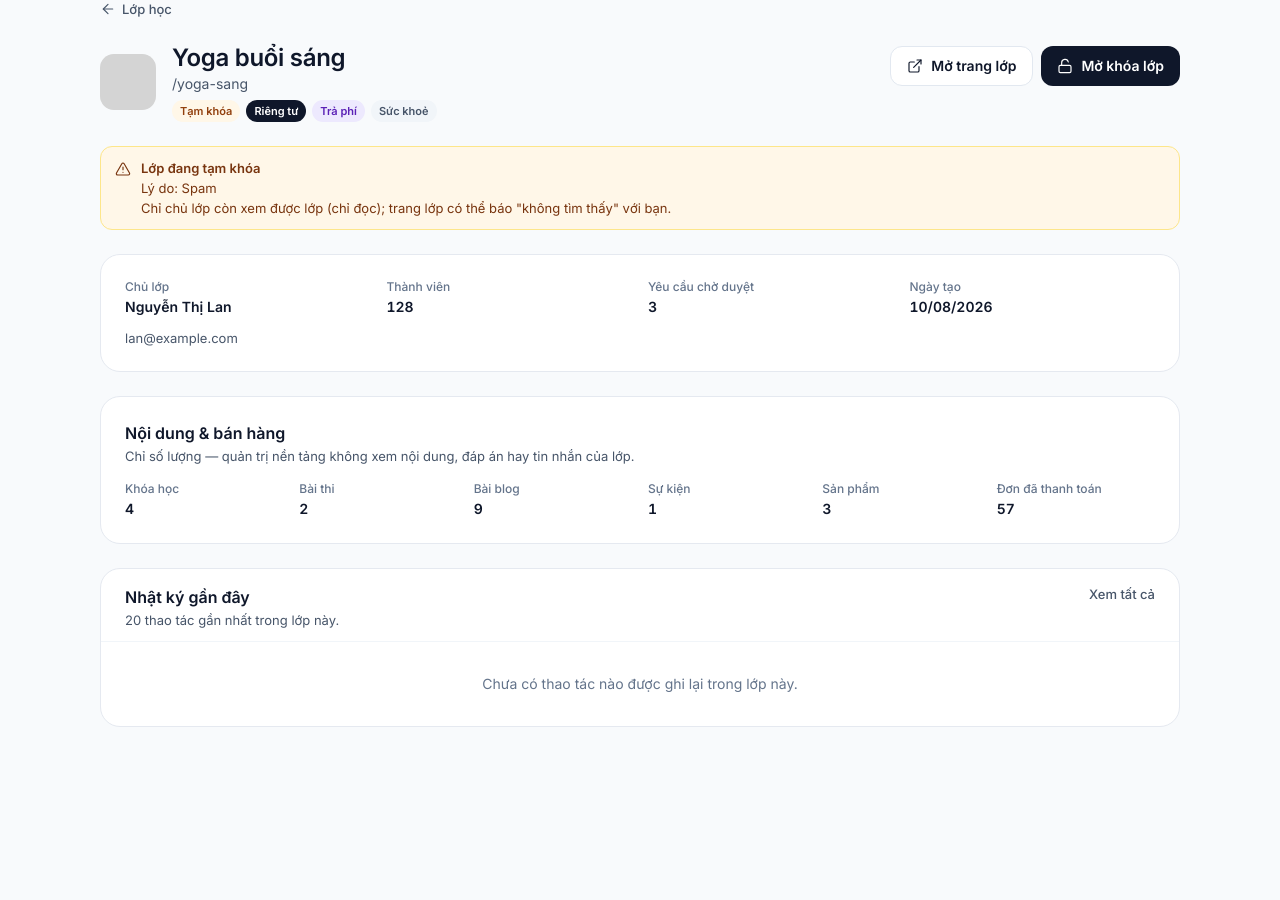
Test: AdminClassDetail suspend / restore › restores a suspended class with a reason and shows a server error inline
Click the button "Mở khóa lớp" at point(1111, 66), box [1041,46,1180,86]
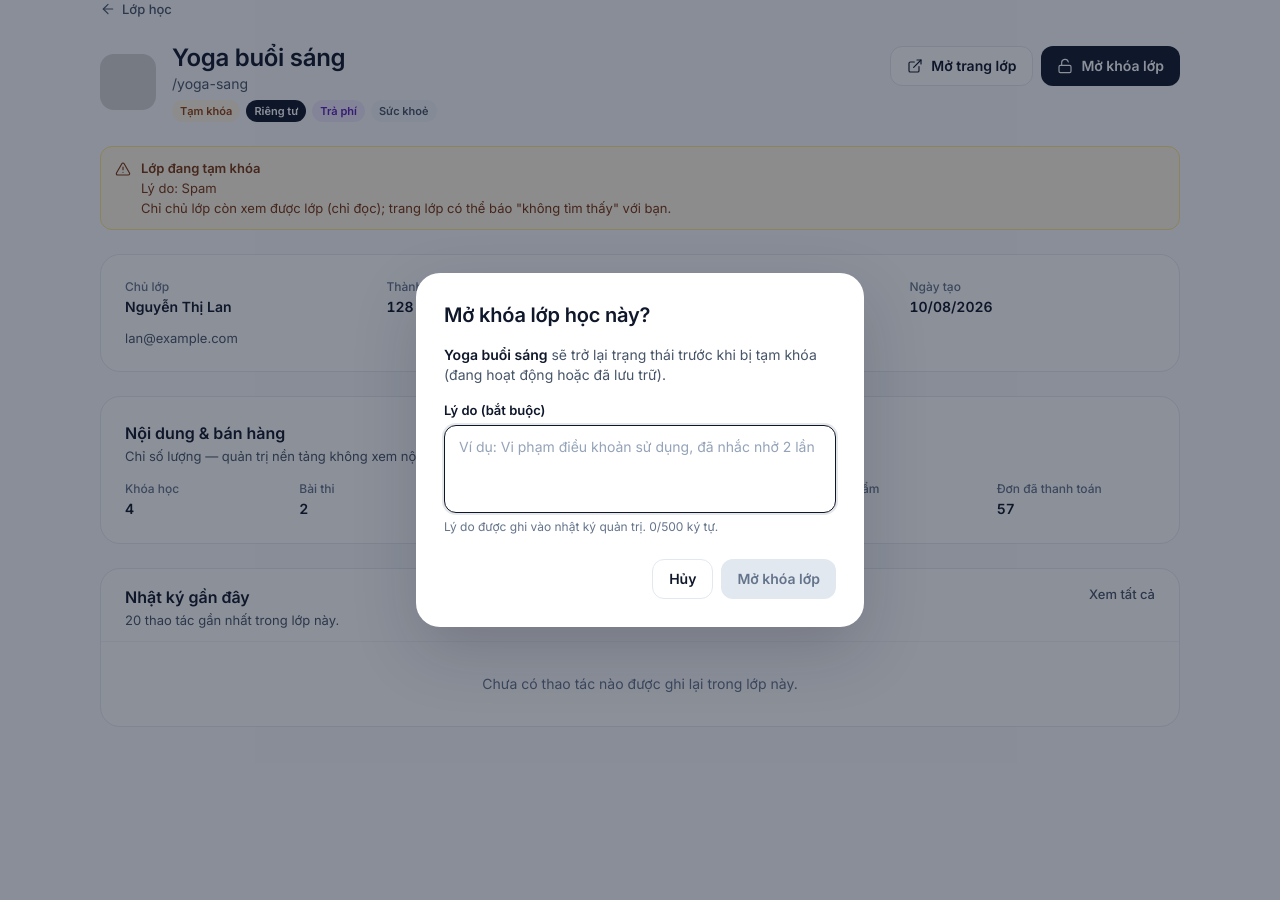
Type "Đã gỡ nội dung" into the text box labelled "Lý do (bắt buộc)" at point(640, 469), box [444,425,836,513]
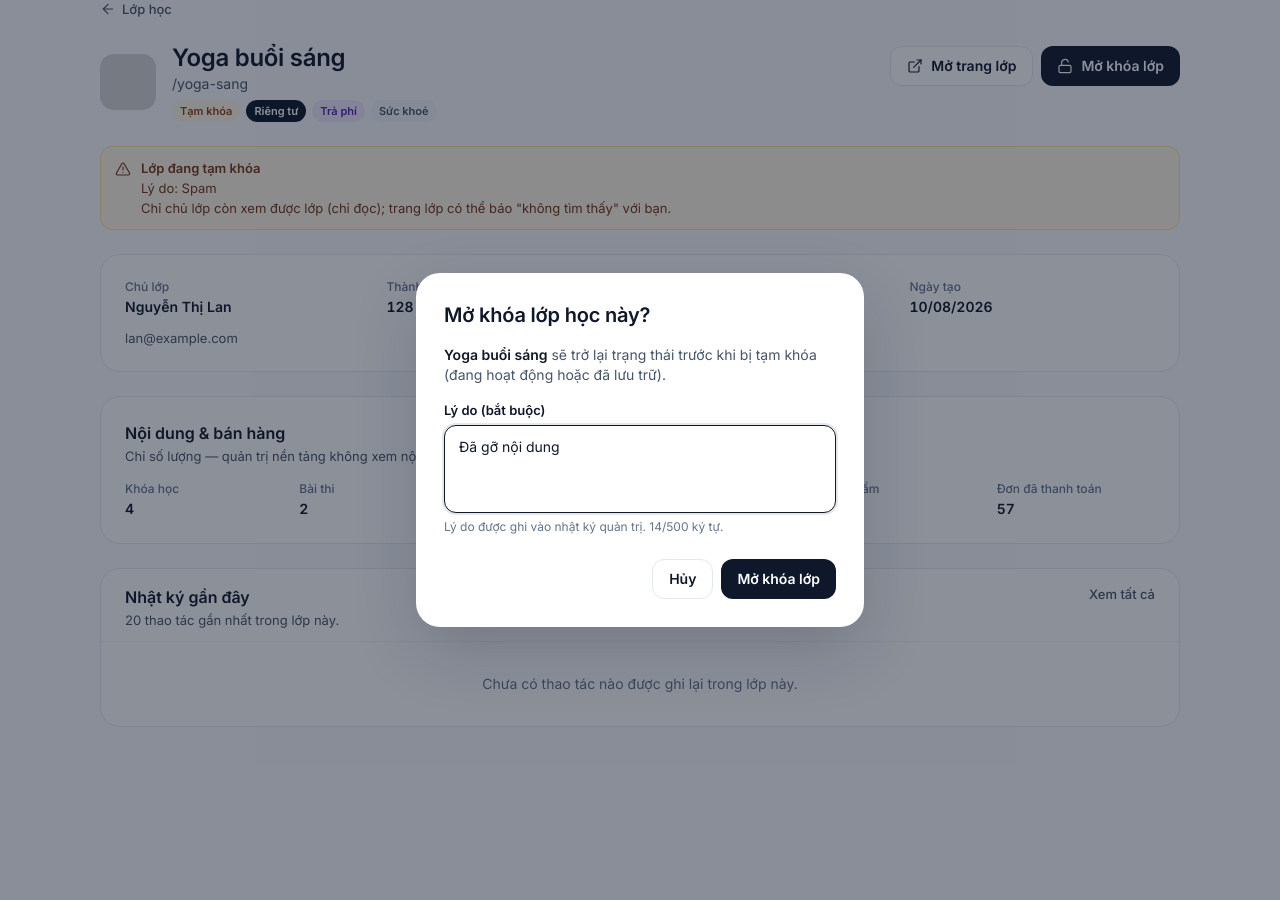
Click the button "Mở khóa lớp" at point(779, 579), box [721,559,836,599]
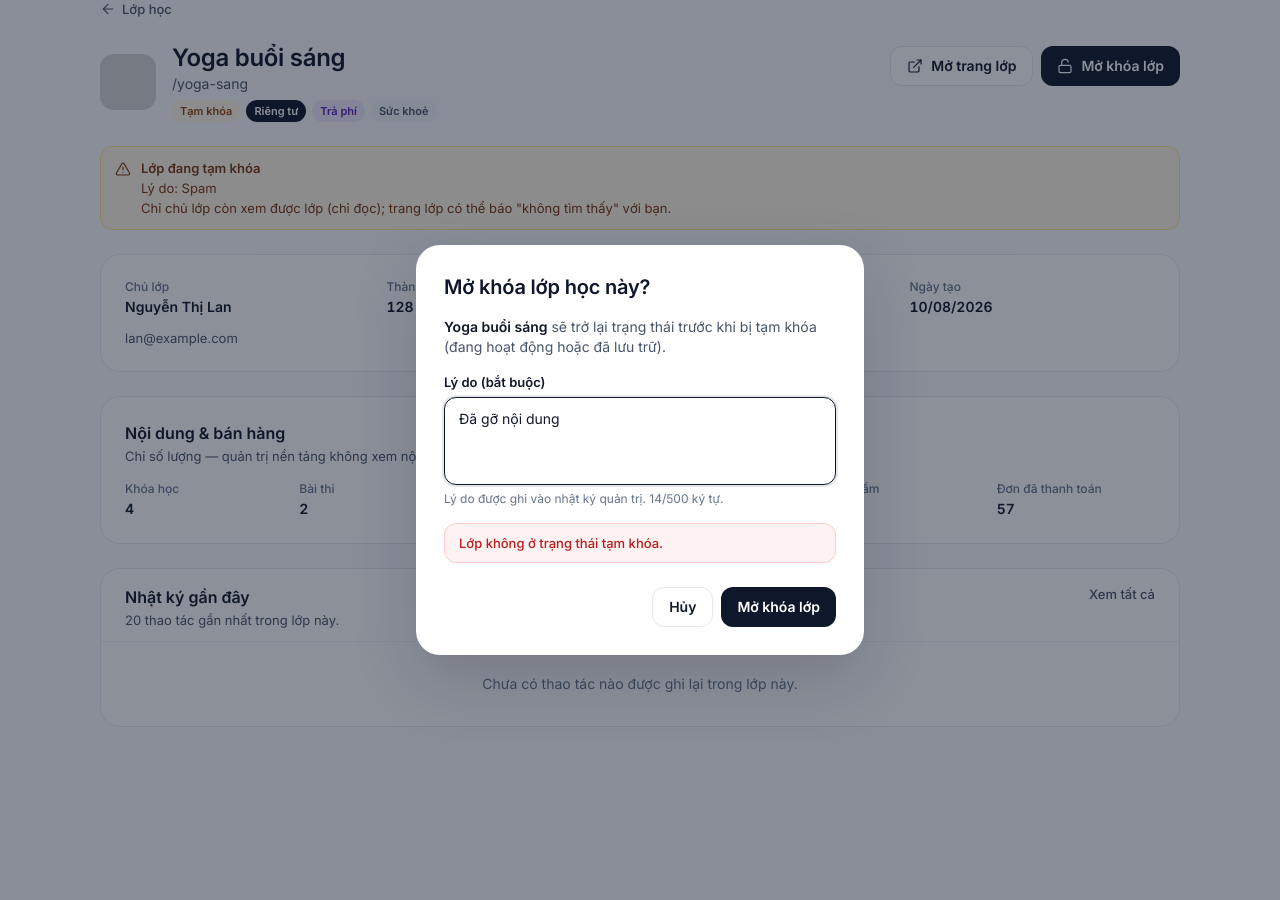
Now the text "Lớp không ở trạng thái tạm khóa." is shown, box [444,523,836,563]
Click the button "Mở khóa lớp" at point(779, 607), box [721,587,836,627]
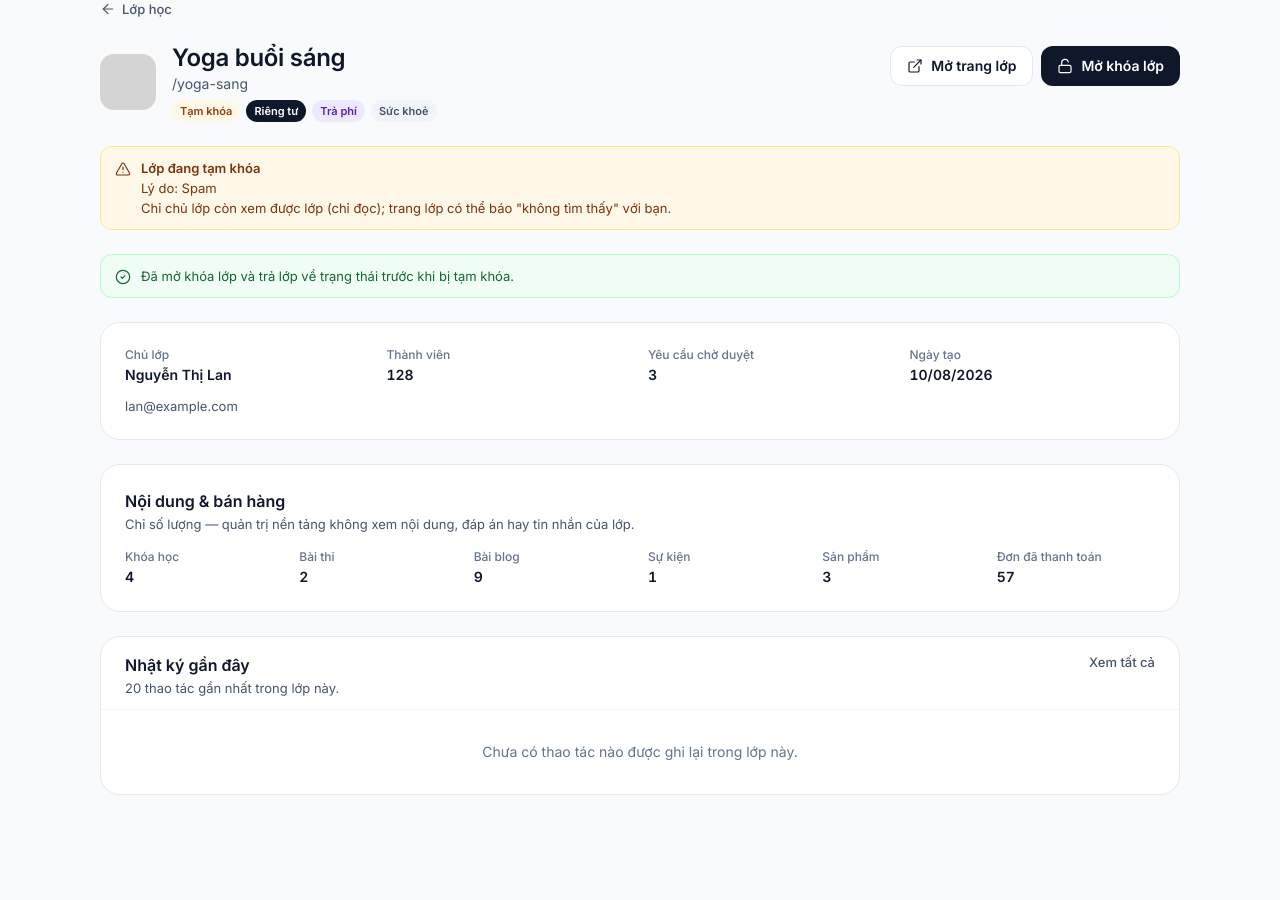
Now the dialog is gone
